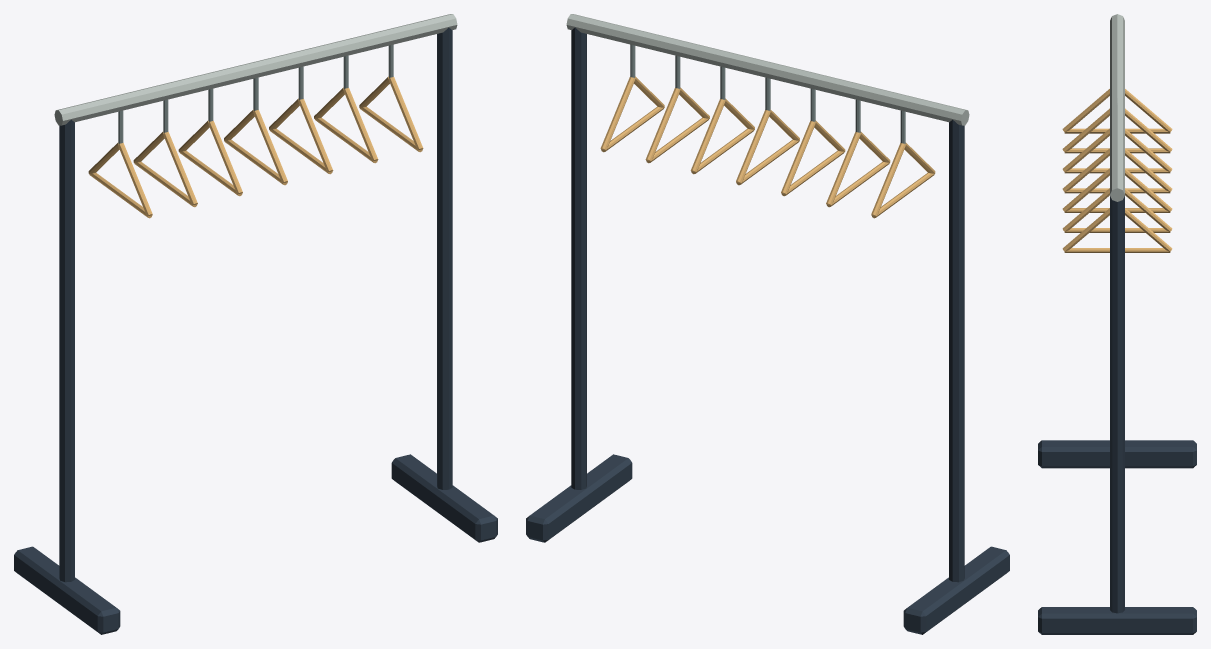
File: coat_rack.glb
3 renders of one model, left to right at view 1: azimuth 30°, elevation 25°; view 2: azimuth 150°, elevation 25°; view 3: azimuth 270°, elevation 25°, orthographic. The views are drawn at different scales.
Visible parts, largest first — view 1: coat_rack__metal, coat_rack__oak_light, coat_rack__steel, coat_rack__metal_light; view 2: coat_rack__metal, coat_rack__oak_light, coat_rack__steel, coat_rack__metal_light; view 3: coat_rack__metal, coat_rack__oak_light, coat_rack__steel.
Part boxes in pixels (bbox=[...]): coat_rack__metal: bbox=[14, 27, 497, 634]; coat_rack__oak_light: bbox=[88, 76, 423, 218]; coat_rack__steel: bbox=[54, 14, 457, 125]; coat_rack__metal_light: bbox=[118, 44, 393, 143]; coat_rack__metal: bbox=[526, 27, 1009, 634]; coat_rack__oak_light: bbox=[600, 76, 935, 218]; coat_rack__steel: bbox=[566, 14, 969, 125]; coat_rack__metal_light: bbox=[630, 44, 905, 143]; coat_rack__metal: bbox=[1038, 196, 1196, 634]; coat_rack__oak_light: bbox=[1062, 89, 1172, 252]; coat_rack__steel: bbox=[1110, 14, 1124, 201].
Bounding box in the file's own units: 1.42 × 1.68 × 0.54.
